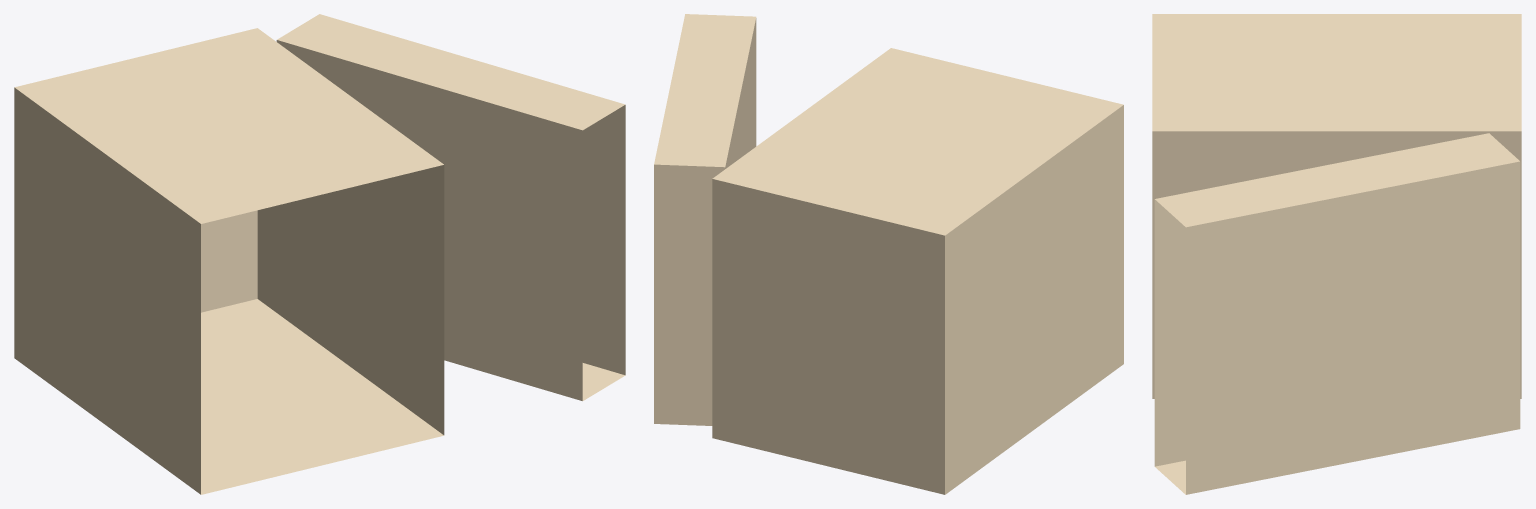
The picture shows the model from 3 angles, left to right: view 1: azimuth 30°, elevation 25°; view 2: azimuth 150°, elevation 25°; view 3: azimuth 270°, elevation 25°; orthographic projection. The views are drawn at different scales.
Parts seen in each view (by area): view 1: Object54; view 2: Object54; view 3: Object54.
Part boxes in pixels (x1,y1,x2,y2): Object54: (14,14,625,494); Object54: (654,14,1123,494); Object54: (1152,14,1521,494).
Bounding box in the file's own units: 5117 × 3007 × 3751.
